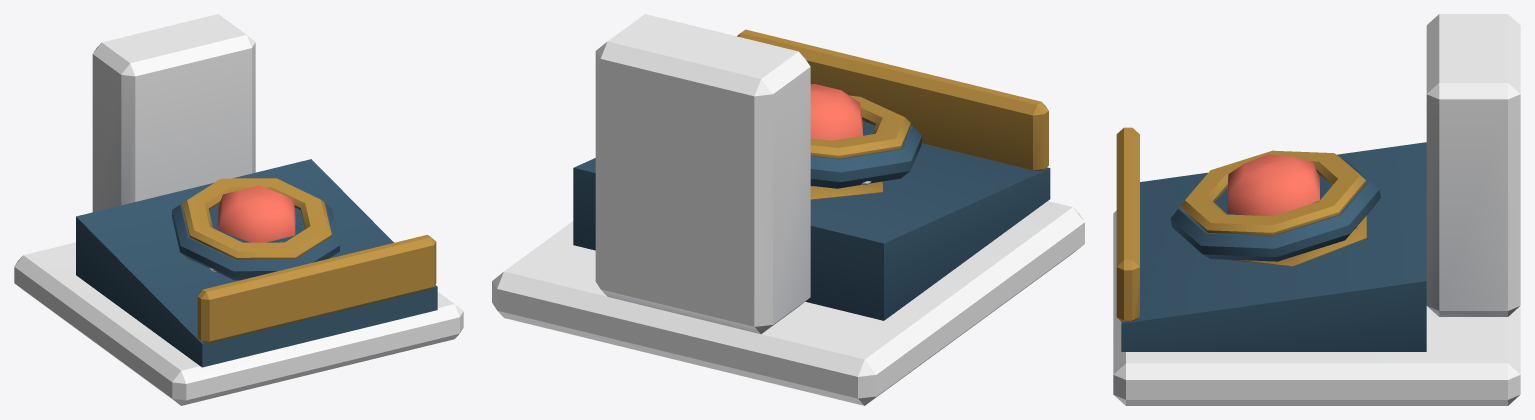
File: R4X_ExplosiveTrapDeployer_LOD1.fbx
The picture shows the model from 3 angles, left to right: view 1: azimuth 30°, elevation 25°; view 2: azimuth 150°, elevation 25°; view 3: azimuth 270°, elevation 25°; orthographic projection. The views are drawn at different scales.
Visible parts, largest first — view 1: R4X_ExplosiveTrapDeployer_LOD1; view 2: R4X_ExplosiveTrapDeployer_LOD1; view 3: R4X_ExplosiveTrapDeployer_LOD1.
Part boxes in pixels (<box>): R4X_ExplosiveTrapDeployer_LOD1: <box>14,14,463,405</box>; R4X_ExplosiveTrapDeployer_LOD1: <box>492,14,1084,405</box>; R4X_ExplosiveTrapDeployer_LOD1: <box>1113,14,1520,405</box>.
Size of the model in its own units: 0.52 by 0.39 by 0.52.
